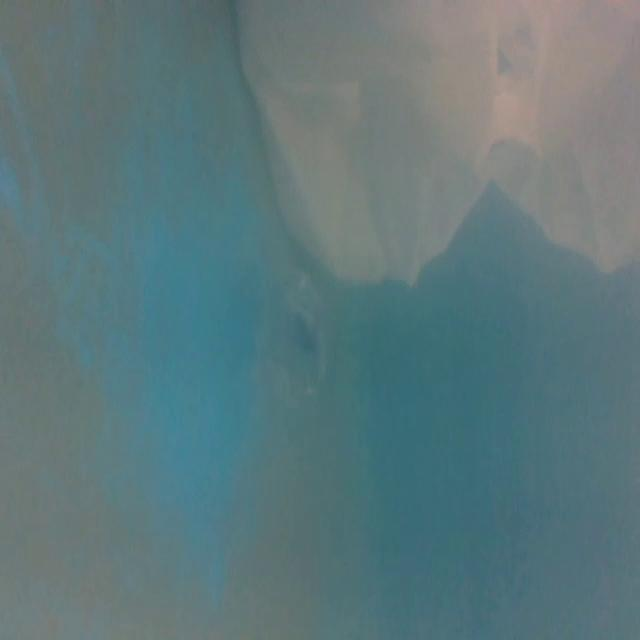plastic bags: (219, 0, 640, 311)
